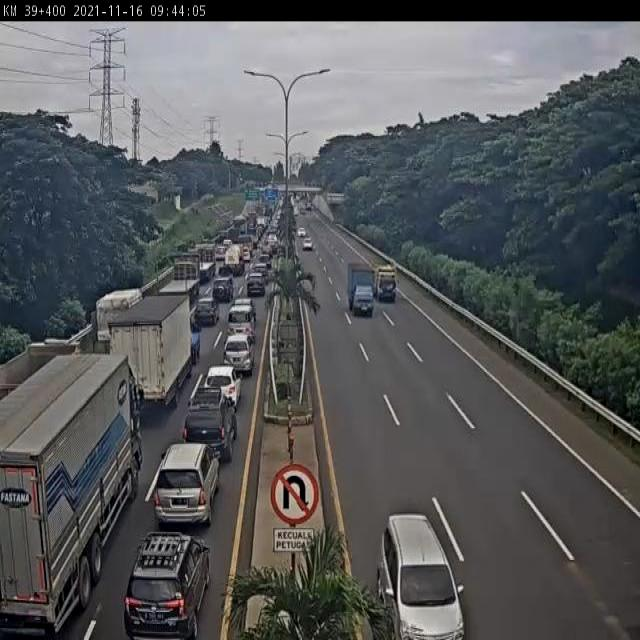Car: (123, 530, 210, 640), (152, 444, 220, 528), (182, 386, 238, 464), (202, 365, 242, 409), (222, 333, 255, 377), (227, 298, 257, 335), (193, 297, 220, 327), (212, 276, 235, 302), (246, 274, 266, 296), (215, 244, 226, 260), (303, 238, 313, 250), (298, 227, 306, 238)
Truck: (0, 353, 143, 640), (111, 293, 190, 410), (161, 253, 201, 295), (347, 264, 374, 316), (375, 265, 398, 302)
Van: (378, 512, 464, 638)
